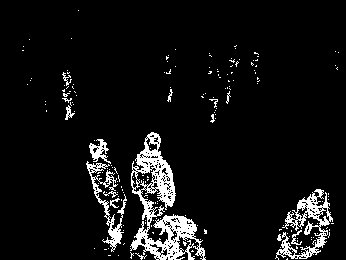person: (131, 130, 175, 250), (86, 136, 124, 251), (58, 67, 79, 122)
